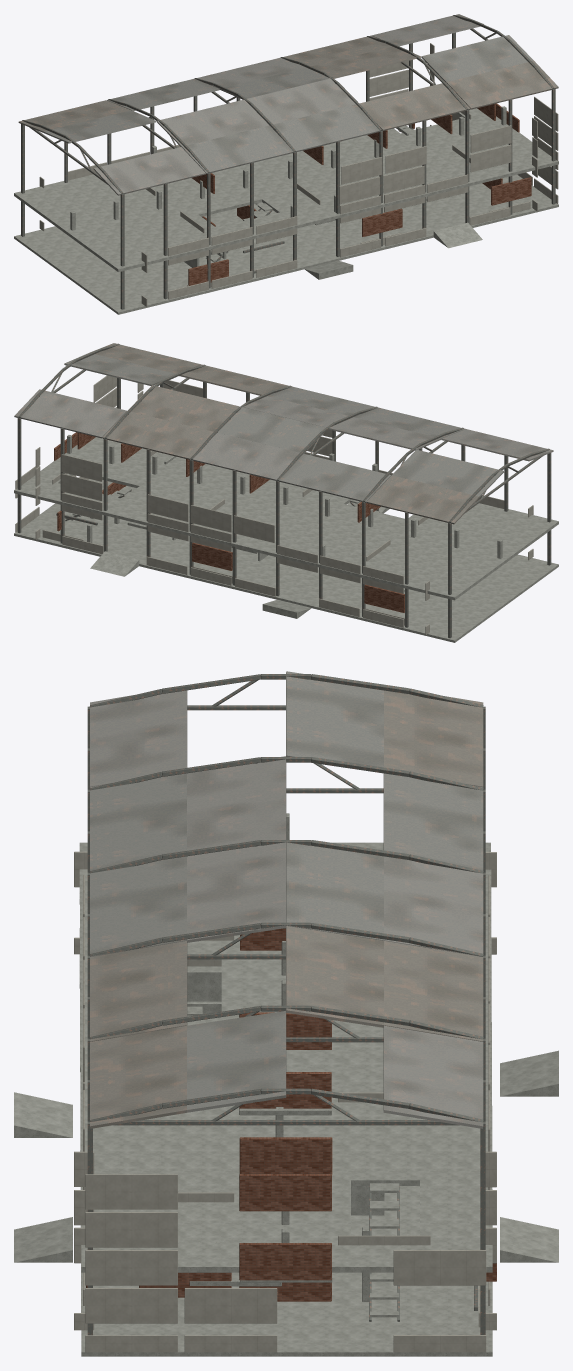
Rendered from fortress-shell-lod1.glb.
3 renders of one model, top to bottom at view 1: azimuth 30°, elevation 25°; view 2: azimuth 150°, elevation 25°; view 3: azimuth 270°, elevation 25°, orthographic. The views are drawn at different scales.
Parts seen in each view (by area): view 1: GroundSlab, BATCH_FLOOR_floor_1_floor_1_cement_board_FLOOR_floor_1, BATCH_STRUCTURE_shared_ground_steel_STRUCTURE_shared, UpperSlab_11, UpperSlab_02, BATCH_FLOOR_ground_ground_cement_board_FLOOR_ground, RoofPanel_C00_R00, RoofPanel_C04_R00, RoofPanel_C01_R00, RoofPanel_C03_R00, RoofPanel_C02_R00, RoofPanel_C01_R01 (+34 smaller); view 2: GroundSlab, BATCH_FLOOR_floor_1_floor_1_cement_board_FLOOR_floor_1, BATCH_STRUCTURE_shared_ground_steel_STRUCTURE_shared, UpperSlab_11, UpperSlab_02, BATCH_FLOOR_ground_ground_cement_board_FLOOR_ground, RoofPanel_C00_R03, RoofPanel_C04_R03, RoofPanel_C01_R03, RoofPanel_C03_R03, RoofPanel_C02_R03, RoofPanel_C00_R02 (+34 smaller); view 3: BATCH_FLOOR_floor_1_floor_1_cement_board_FLOOR_floor_1, GroundSlab, BATCH_FLOOR_floor_1_floor_1_brick_FLOOR_floor_1, BATCH_FLOOR_ground_ground_cement_board_FLOOR_ground, BATCH_FLOOR_ground_ground_concrete_FLOOR_ground, RoofPanel_C04_R03, RoofPanel_C04_R01, RoofPanel_C02_R01, RoofPanel_C04_R00, RoofPanel_C03_R02, RoofPanel_C03_R03, RoofPanel_C02_R03 (+30 smaller).
Boxes of the visible parts, <box> form: GroundSlab: <box>14,174,558,314</box>; BATCH_FLOOR_floor_1_floor_1_cement_board_FLOOR_floor_1: <box>39,43,558,272</box>; BATCH_STRUCTURE_shared_ground_steel_STRUCTURE_shared: <box>21,32,555,309</box>; UpperSlab_11: <box>229,133,432,198</box>; UpperSlab_02: <box>49,191,198,245</box>; BATCH_FLOOR_ground_ground_cement_board_FLOOR_ground: <box>39,125,558,306</box>; RoofPanel_C00_R00: <box>93,147,205,195</box>; RoofPanel_C04_R00: <box>446,61,558,109</box>; RoofPanel_C01_R00: <box>182,125,293,173</box>; RoofPanel_C03_R00: <box>359,82,470,130</box>; RoofPanel_C02_R00: <box>270,104,382,151</box>; RoofPanel_C01_R01: <box>156,99,269,146</box>; GroundSlab: <box>14,479,558,642</box>; BATCH_FLOOR_floor_1_floor_1_cement_board_FLOOR_floor_1: <box>15,375,533,600</box>; BATCH_STRUCTURE_shared_ground_steel_STRUCTURE_shared: <box>17,378,551,638</box>; UpperSlab_11: <box>140,462,343,527</box>; UpperSlab_02: <box>374,520,522,573</box>; BATCH_FLOOR_ground_ground_cement_board_FLOOR_ground: <box>15,476,533,634</box>; RoofPanel_C00_R03: <box>366,475,479,524</box>; RoofPanel_C04_R03: <box>14,389,126,438</box>; RoofPanel_C01_R03: <box>278,454,391,502</box>; RoofPanel_C03_R03: <box>102,410,213,459</box>; RoofPanel_C02_R03: <box>192,432,302,480</box>; RoofPanel_C00_R02: <box>392,449,503,497</box>; BATCH_FLOOR_floor_1_floor_1_cement_board_FLOOR_floor_1: <box>74,851,496,1285</box>; GroundSlab: <box>79,928,492,1356</box>; BATCH_FLOOR_floor_1_floor_1_brick_FLOOR_floor_1: <box>239,928,332,1280</box>; BATCH_FLOOR_ground_ground_cement_board_FLOOR_ground: <box>74,937,496,1352</box>; BATCH_FLOOR_ground_ground_concrete_FLOOR_ground: <box>14,970,558,1301</box>; RoofPanel_C04_R03: <box>383,1025,483,1128</box>; RoofPanel_C04_R01: <box>187,1011,286,1112</box>; RoofPanel_C02_R01: <box>187,842,285,942</box>; RoofPanel_C04_R00: <box>90,1025,187,1128</box>; RoofPanel_C03_R02: <box>286,926,383,1027</box>; RoofPanel_C03_R03: <box>384,941,483,1041</box>; RoofPanel_C02_R03: <box>384,856,483,956</box>.
Size of the model in its own units: 61.57 by 17.8 by 33.25.
7 materials, 7 textured.
